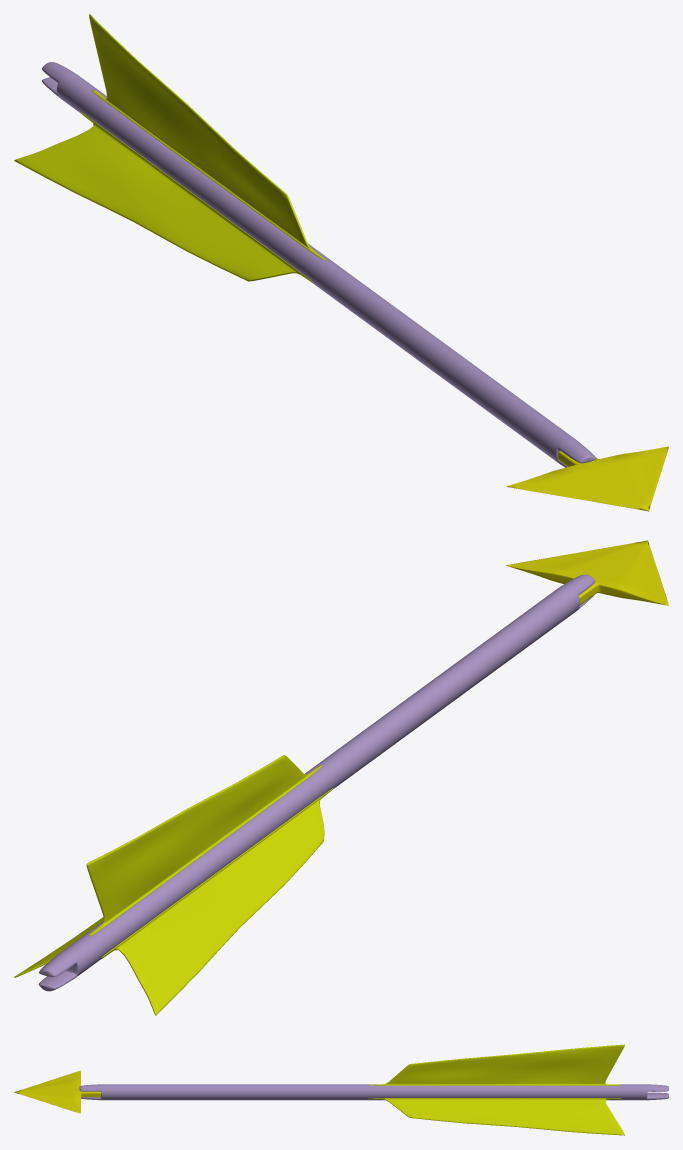
File: arrow.dae
The picture shows the model from 3 angles, top to bottom: view 1: azimuth 30°, elevation 25°; view 2: azimuth 150°, elevation 25°; view 3: azimuth 270°, elevation 25°; orthographic projection. The views are drawn at different scales.
Visible parts, largest first — view 1: indicator_arrow_001; view 2: indicator_arrow_001; view 3: indicator_arrow_001.
Part boxes in pixels (left/top/right/bottom): indicator_arrow_001: left=14, top=14, right=668, bottom=511; indicator_arrow_001: left=14, top=540, right=668, bottom=1015; indicator_arrow_001: left=14, top=1044, right=668, bottom=1135.
Bounding box in the file's own units: 0.2565 × 1.64 × 0.1981.
